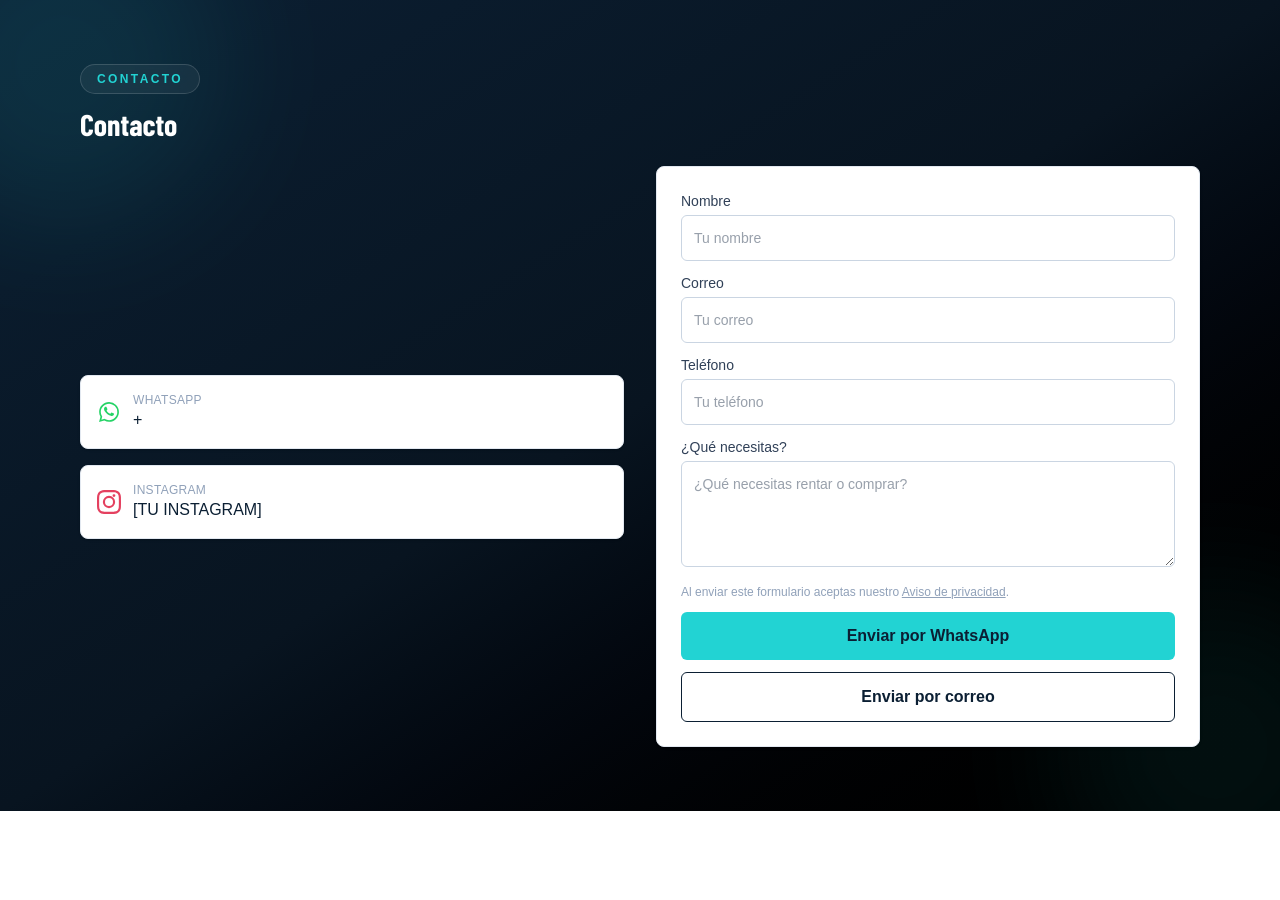
Contacto › muestra confirmación y limpia el formulario cuando el correo se envía bien
In the field with placeholder "Tu nombre": (928, 238) [681,215,1175,261], type "Diego"
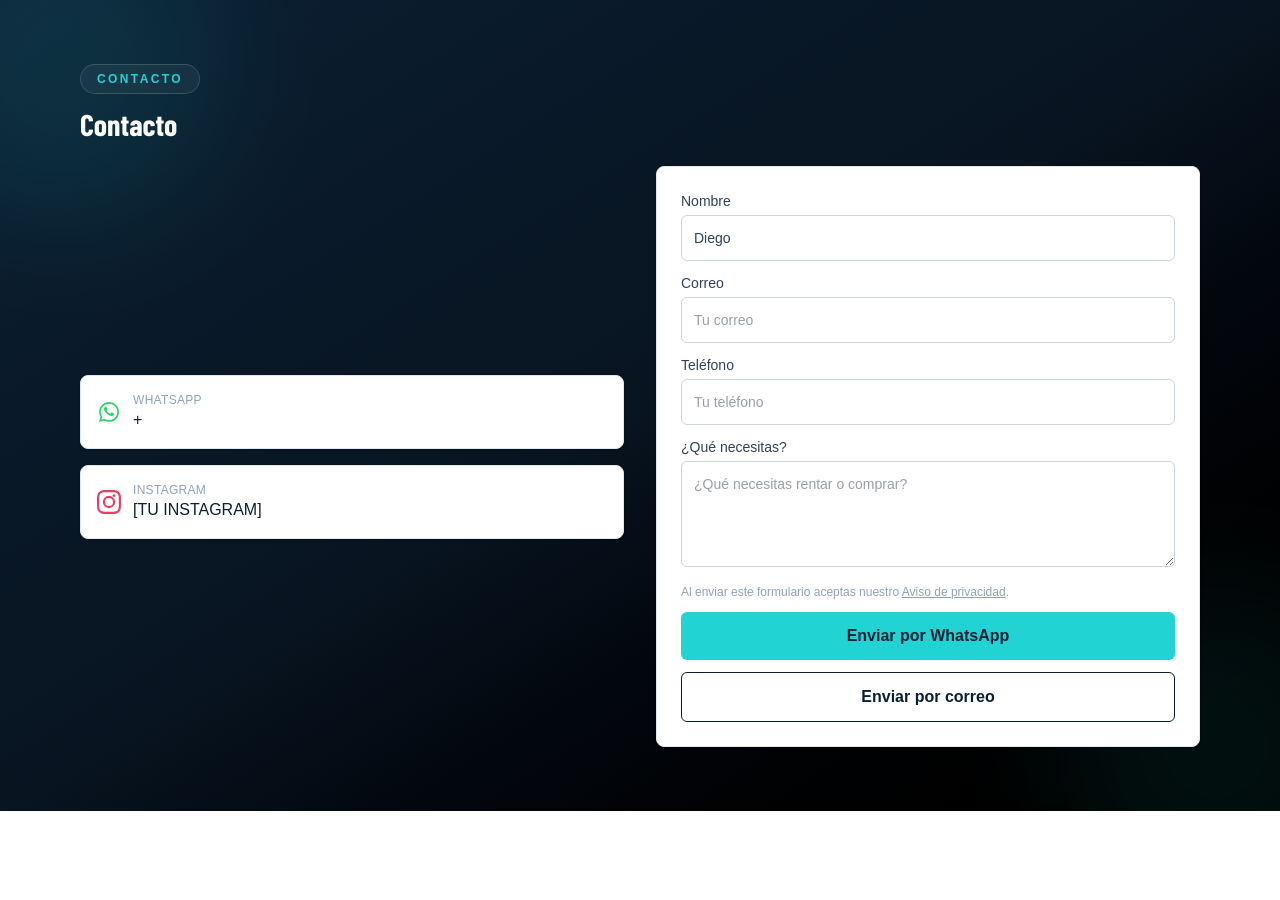
In the field with placeholder "Tu correo": (928, 320) [681,297,1175,343], type "diego@example.com"
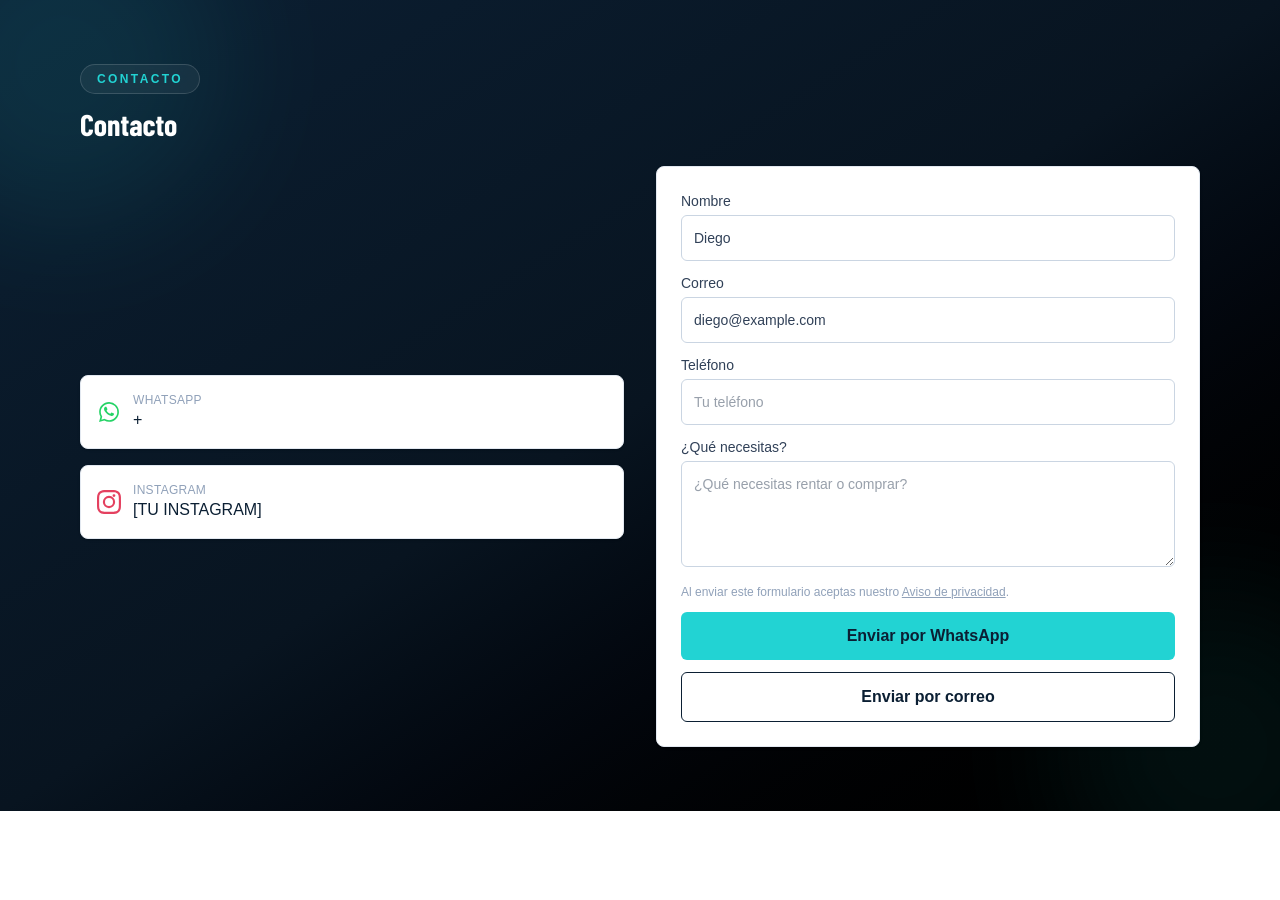
In the field with placeholder "Tu teléfono": (928, 402) [681,379,1175,425], type "3312345678"
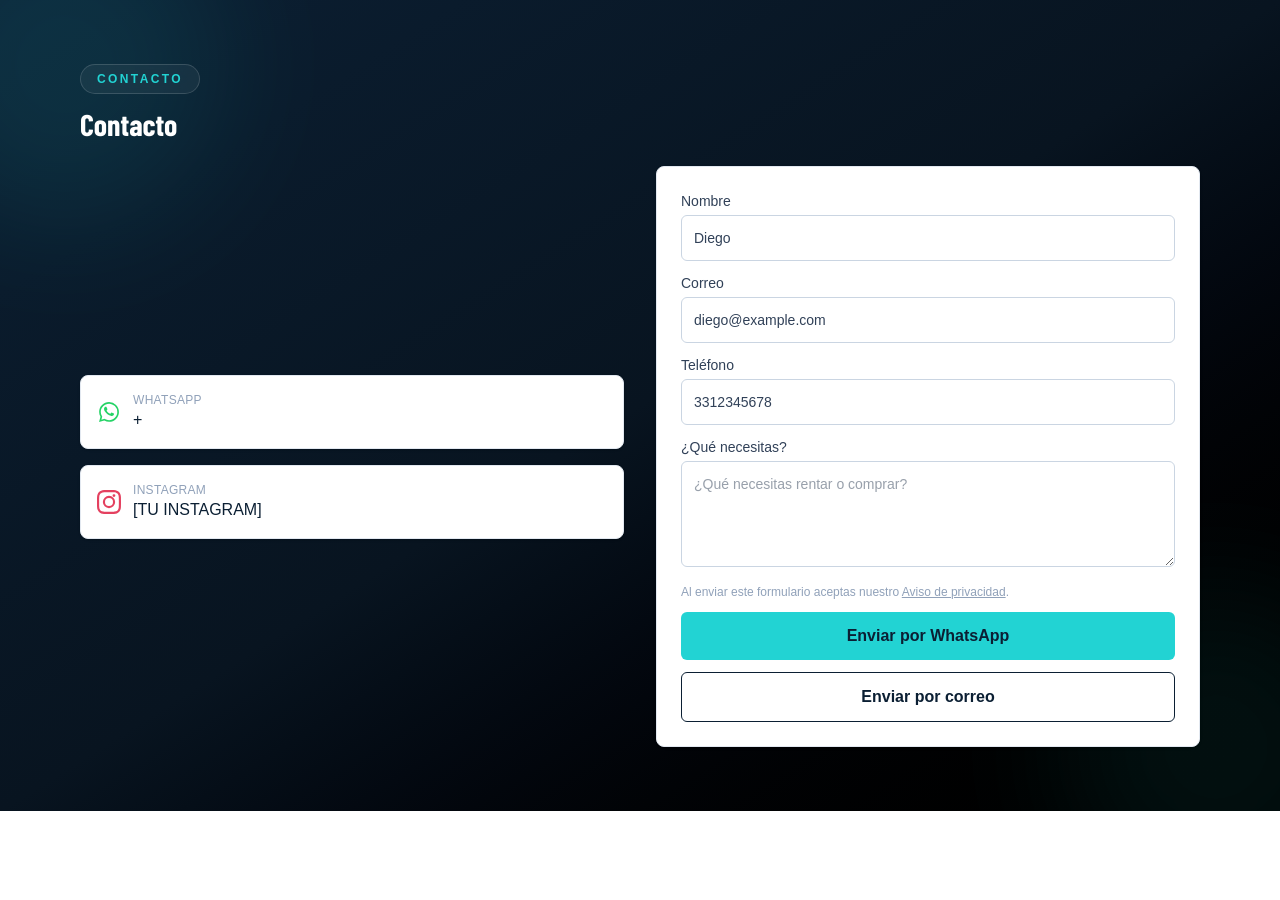
In the text box with placeholder "¿Qué necesitas rentar o comprar?": (928, 514) [681,461,1175,567], type "2 ventiladores de piso"
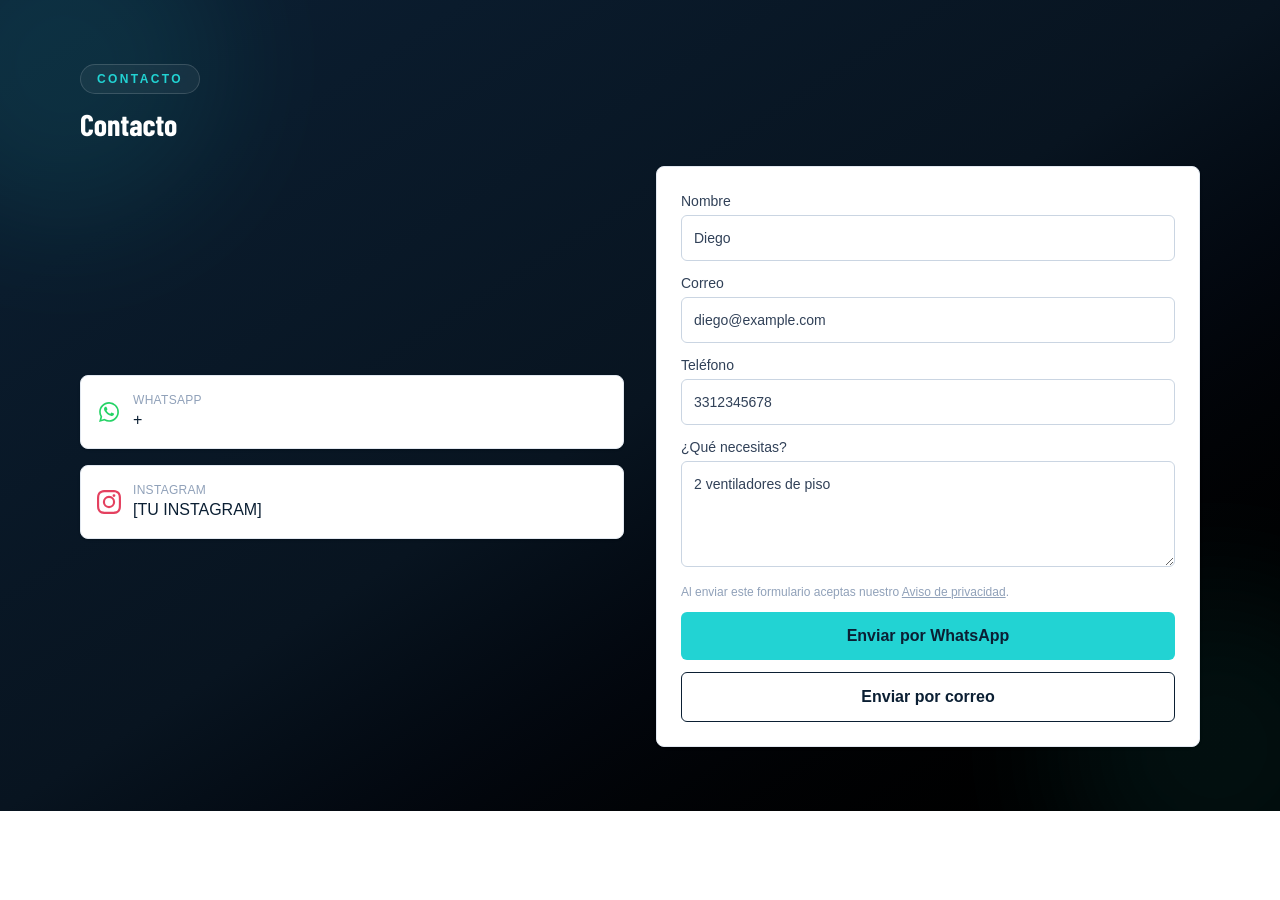
Click the button "Enviar por correo": (928, 697) [681,672,1175,722]
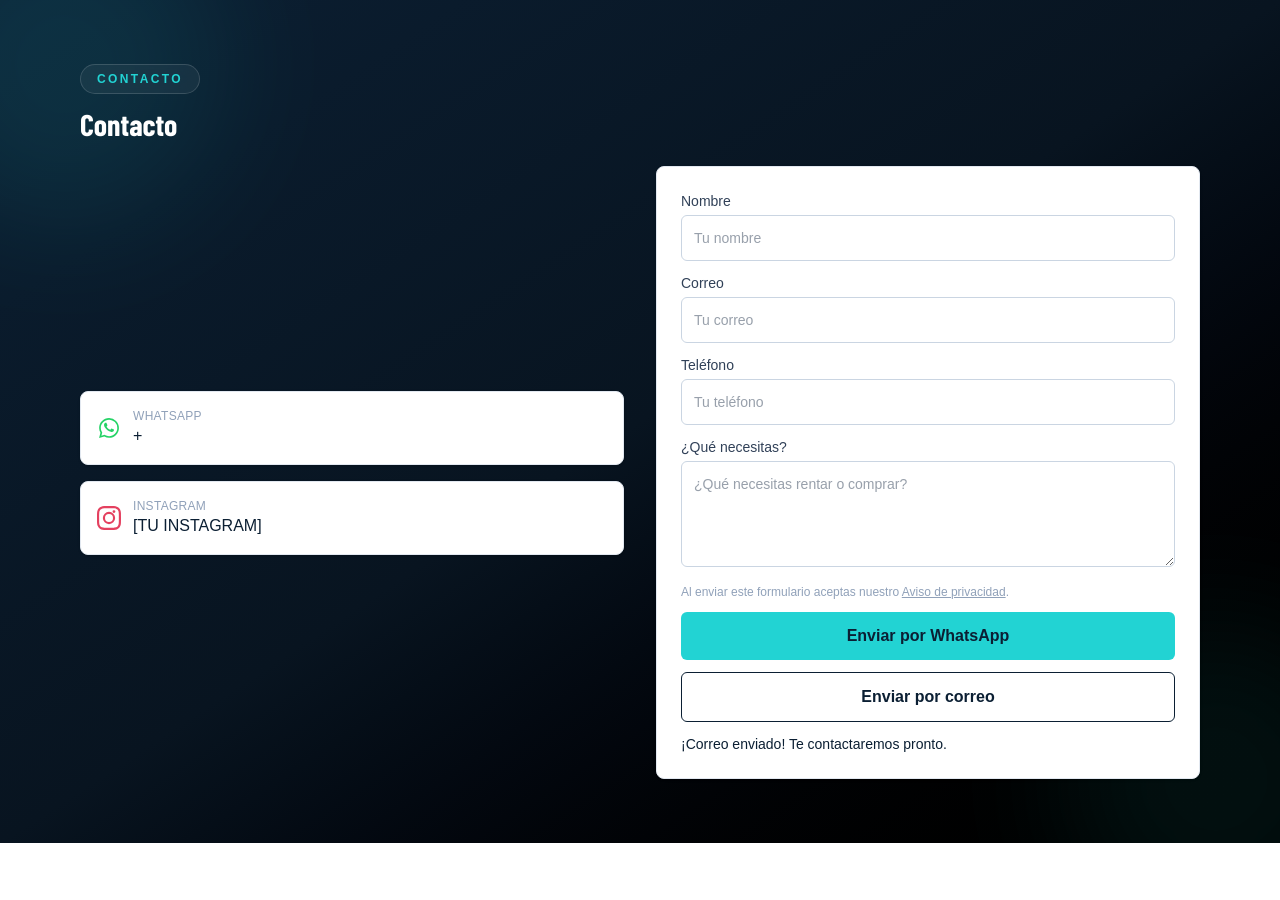
Result: the text "¡Correo enviado! Te contactaremos pronto." is shown at [681,736,947,752]
Result: the field with placeholder "Tu nombre" is empty at [681,215,1175,261]
Result: the field with placeholder "Tu correo" is empty at [681,297,1175,343]
